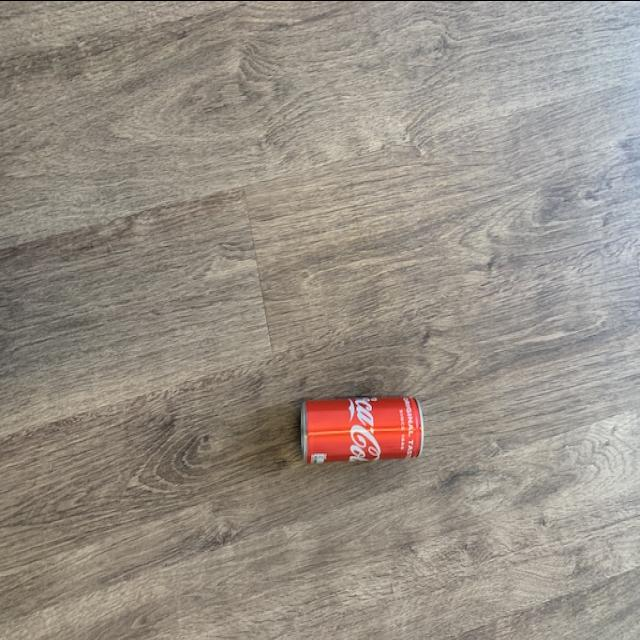Aluminum Can: (289, 372, 442, 488)
